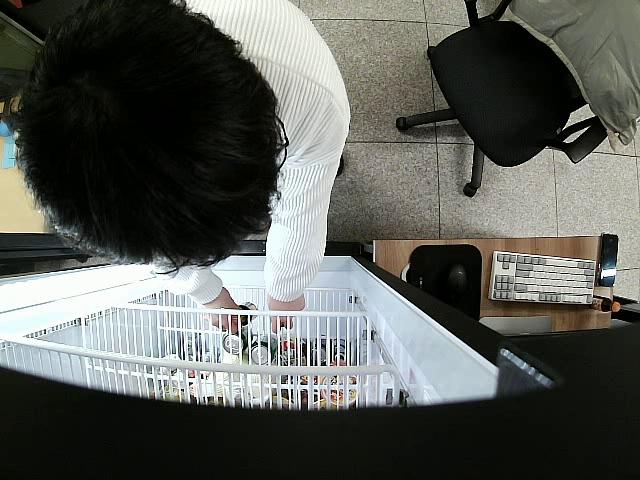00_hand: (203, 286, 242, 335), (267, 294, 306, 331)
17_vita500: (231, 300, 258, 326)
